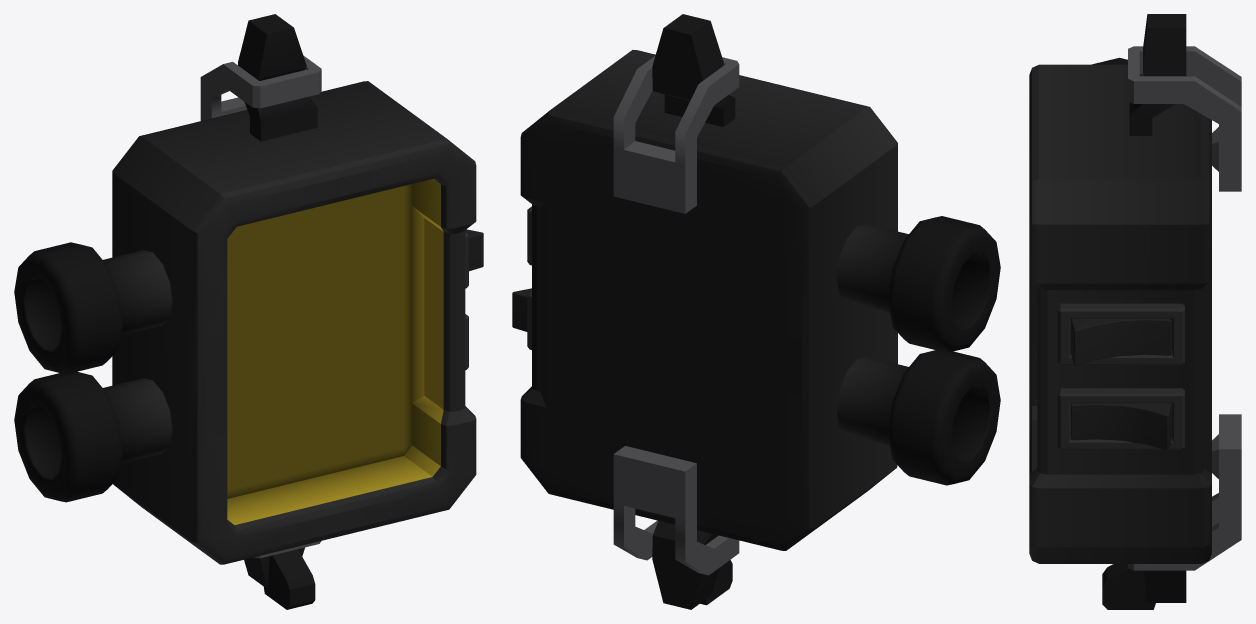
File: Procesor_Cooling_lvl_10_V07.fbx
3 renders of one model, left to right at view 1: azimuth 30°, elevation 25°; view 2: azimuth 150°, elevation 25°; view 3: azimuth 270°, elevation 25°, orthographic. The views are drawn at different scales.
Parts seen in each view (by area): view 1: Procesor_Cooling_lvl_10; view 2: Procesor_Cooling_lvl_10; view 3: Procesor_Cooling_lvl_10.
Boxes of the visible parts, x1=… form: Procesor_Cooling_lvl_10: x1=14, y1=14, x2=483, y2=609; Procesor_Cooling_lvl_10: x1=512, y1=14, x2=1000, y2=609; Procesor_Cooling_lvl_10: x1=1029, y1=14, x2=1241, y2=609.
Bounding box in the file's own units: 36.59 × 46.77 × 15.47.
